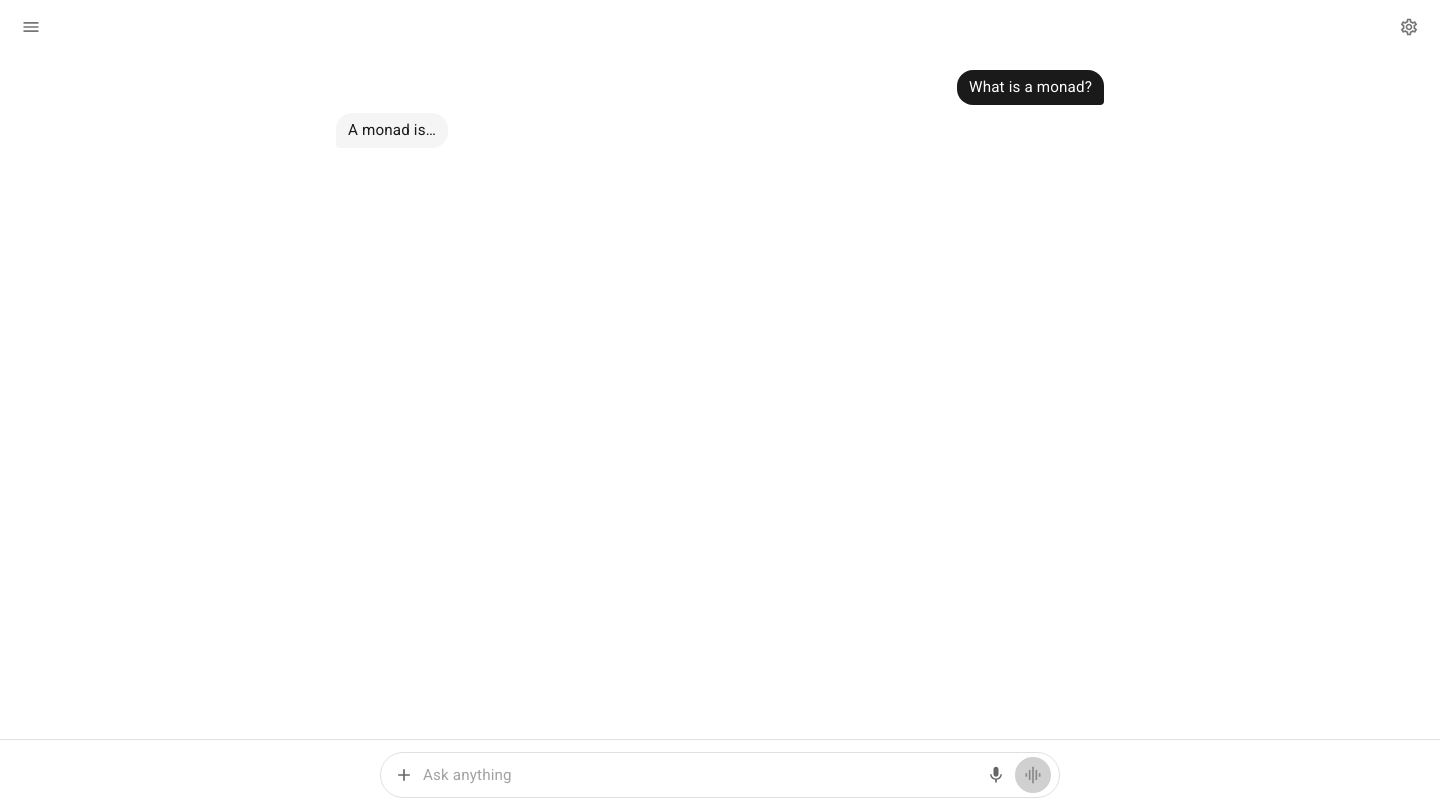
Test: ChatShell › closes the sidebar on a narrow window when New chat is chosen
Check: the text "What is a monad?" is shown, box [957, 70, 1104, 105]
Click the button named "Open conversations".
click(31, 27)  # box [16, 12, 46, 42]
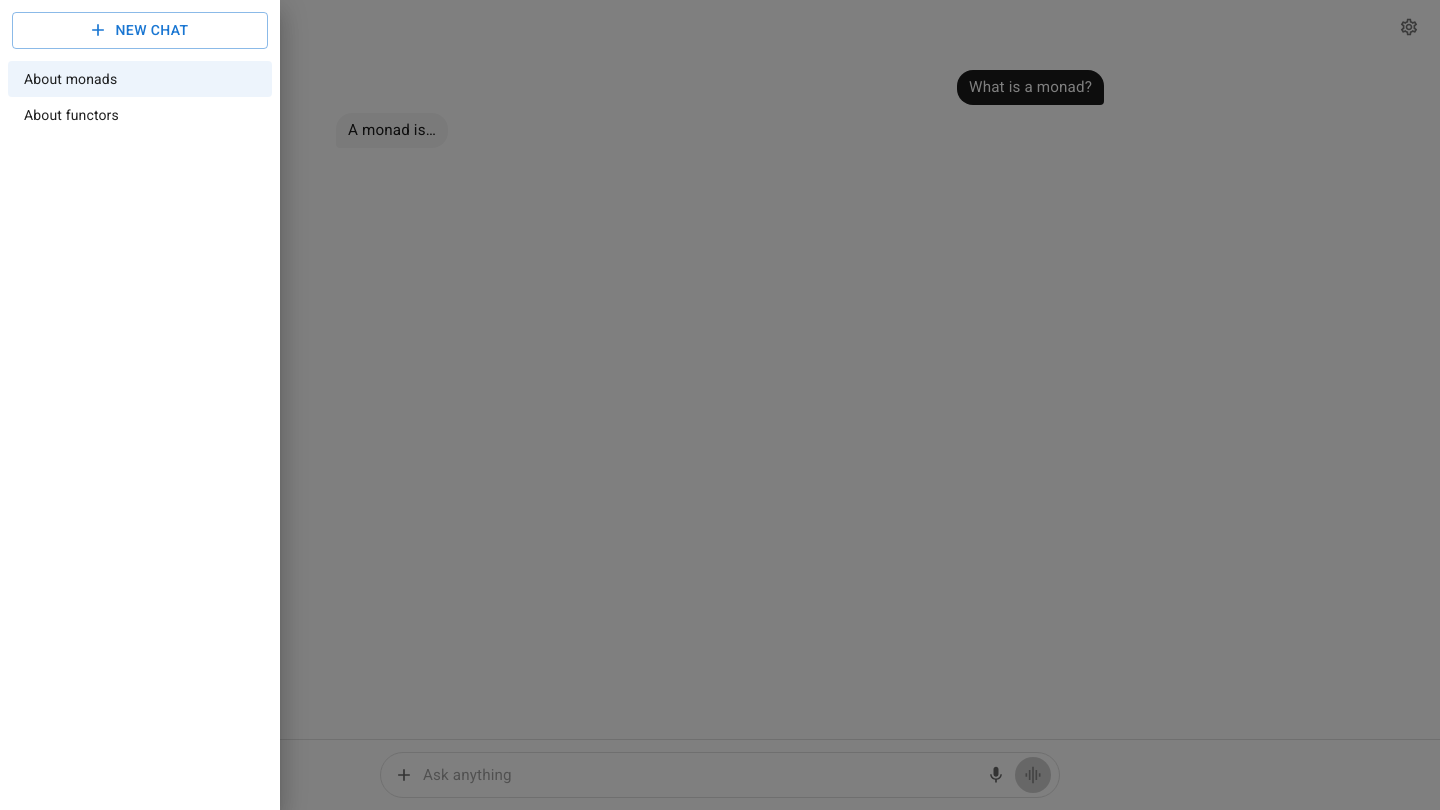
Click the button "New chat".
click(140, 30)  # box [12, 12, 268, 48]
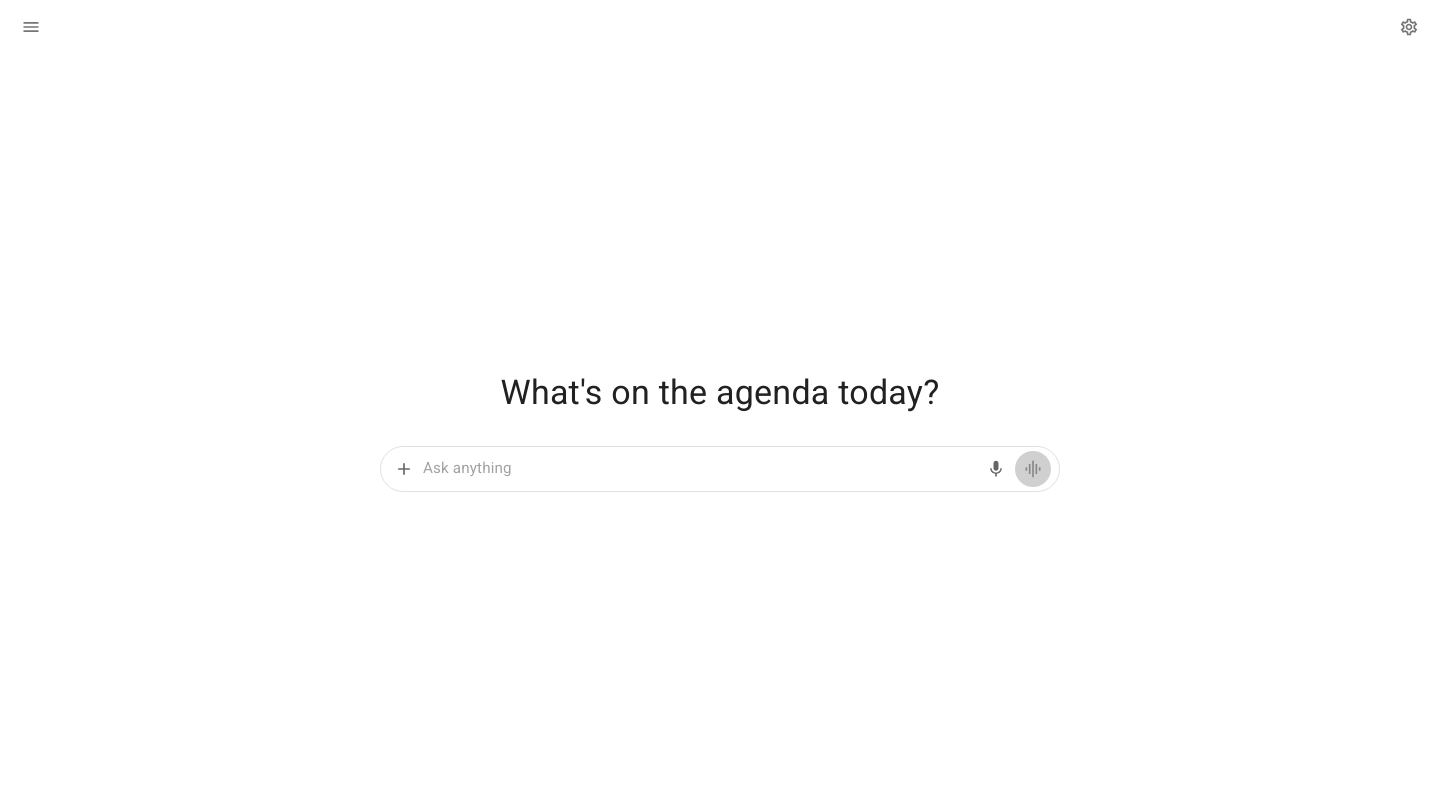
Check: the button "Conversations" is gone
